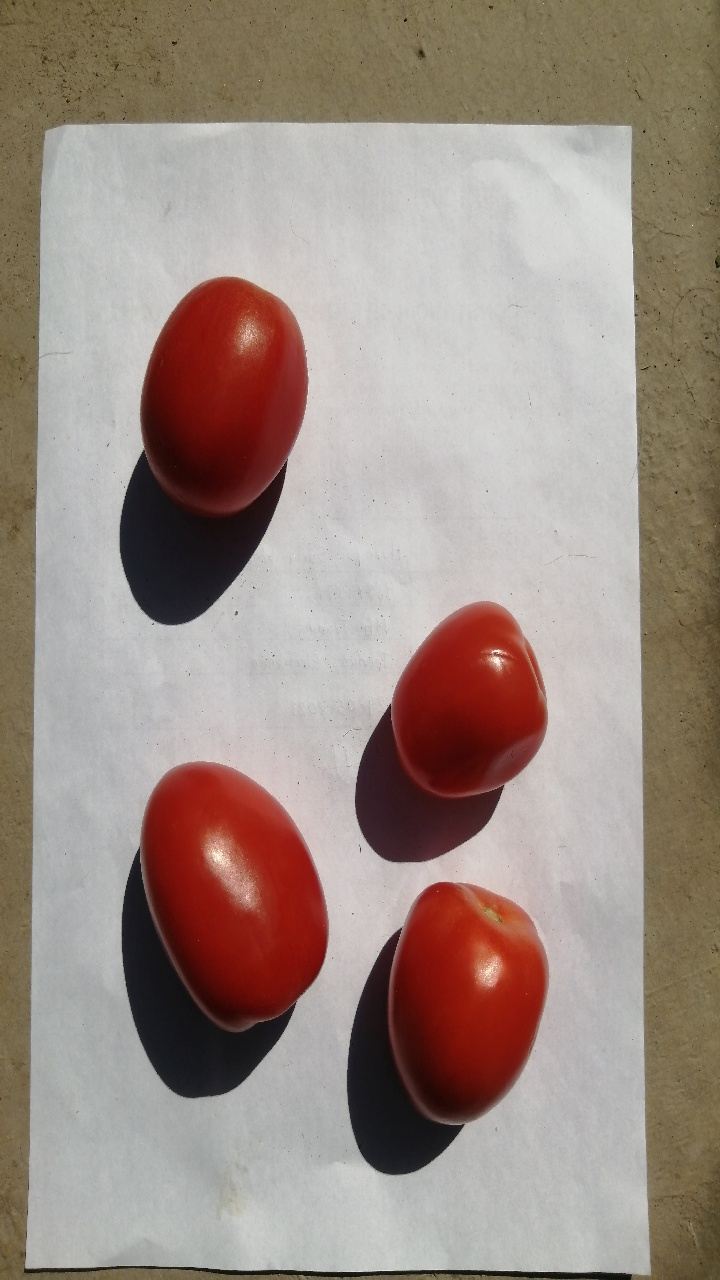tomateRojo: (117, 740, 343, 1051), (128, 242, 332, 529), (371, 862, 566, 1145), (369, 574, 569, 823)
